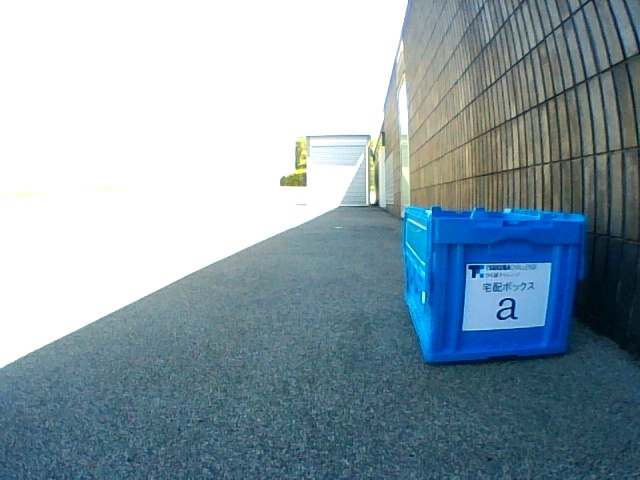blue_box: (401, 206, 586, 362)
tag_a: (477, 270, 541, 323)
